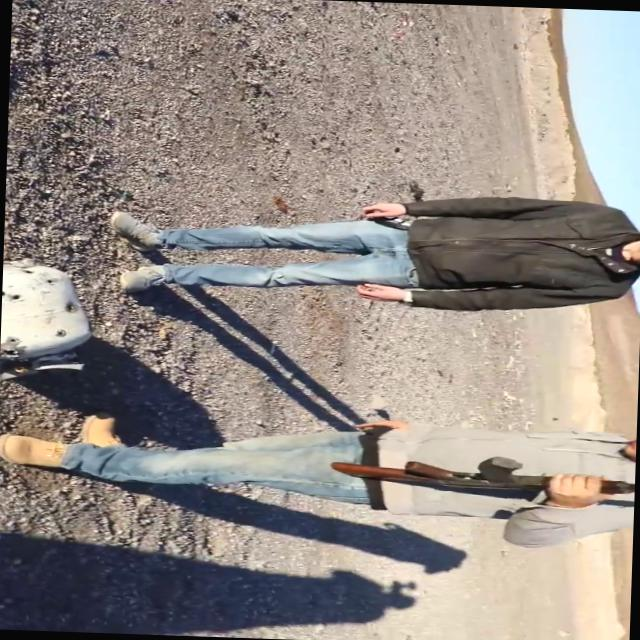long weapon: (313, 436, 635, 510)
